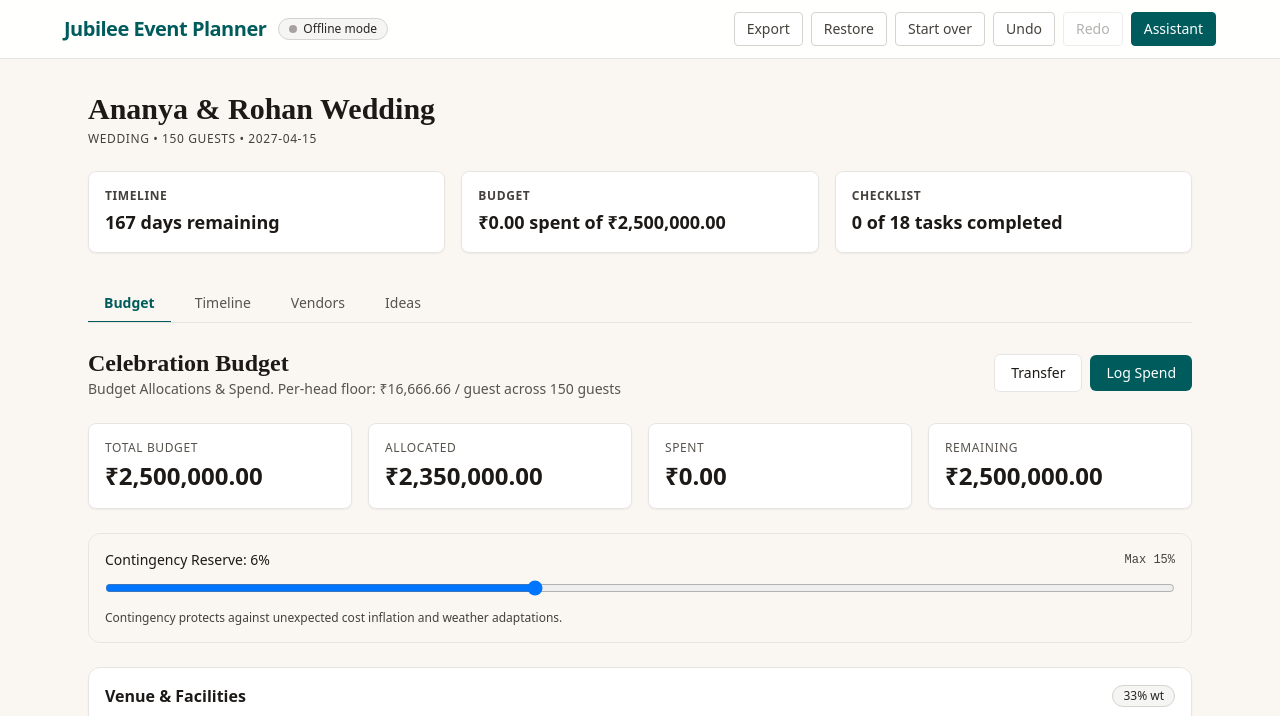
Test: App Shell › renders workspace with vitals and tab panels when a plan is active
Expected: the element named "Event vitals" is shown, [88,171,1192,253]
Expected: the element named "Planning sections" is shown, [88,285,1192,323]
Click the tab "Timeline".
click(223, 304)  # box [179,285,267,323]
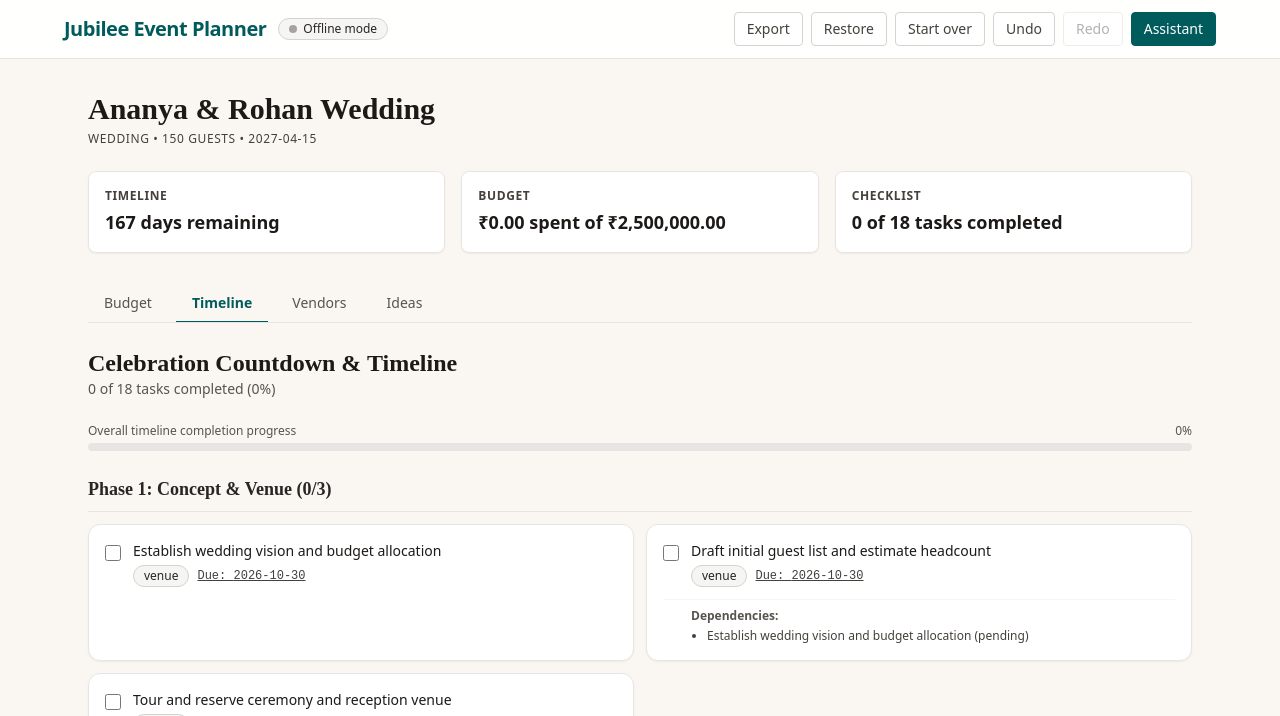
Result: the heading "Celebration Countdown & Timeline" is shown at [88,347,457,379]
Click the tab "Vendors".
click(319, 304)  # box [276,285,363,323]
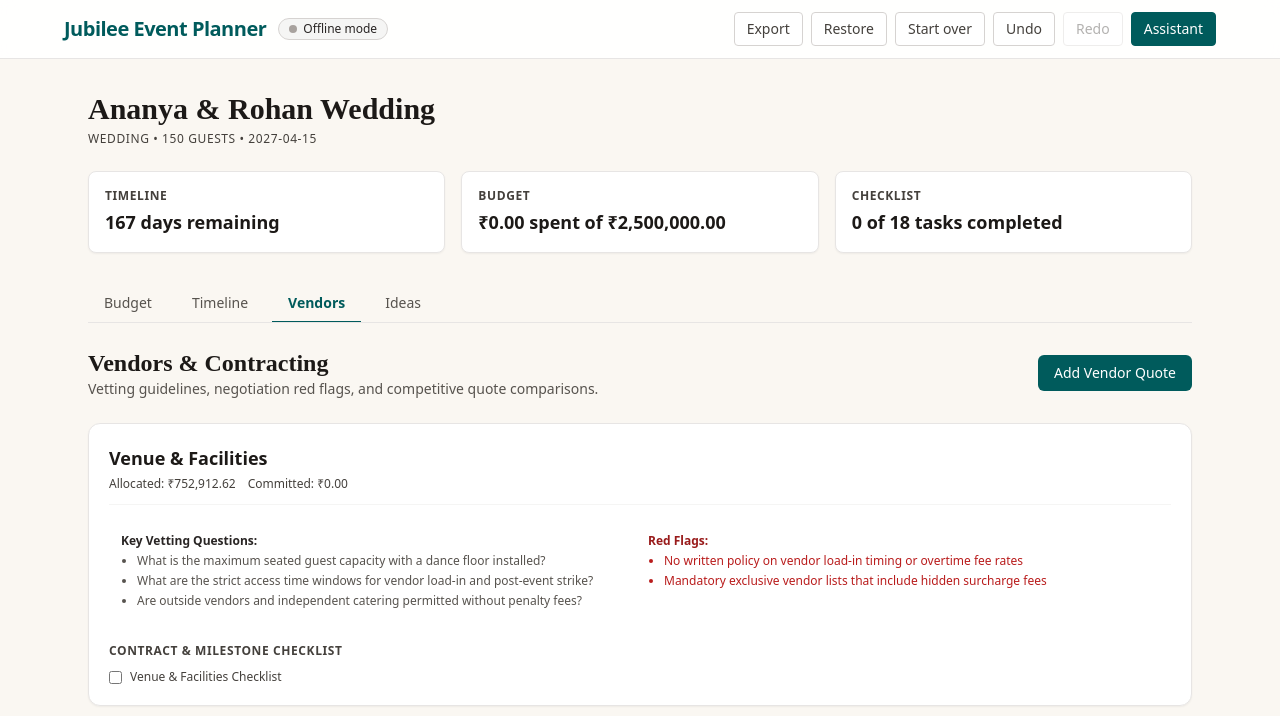
Result: the heading "Vendors & Contracting" is shown at [88,350,328,376]
Click the tab "Ideas".
click(403, 304)  # box [369,285,437,323]
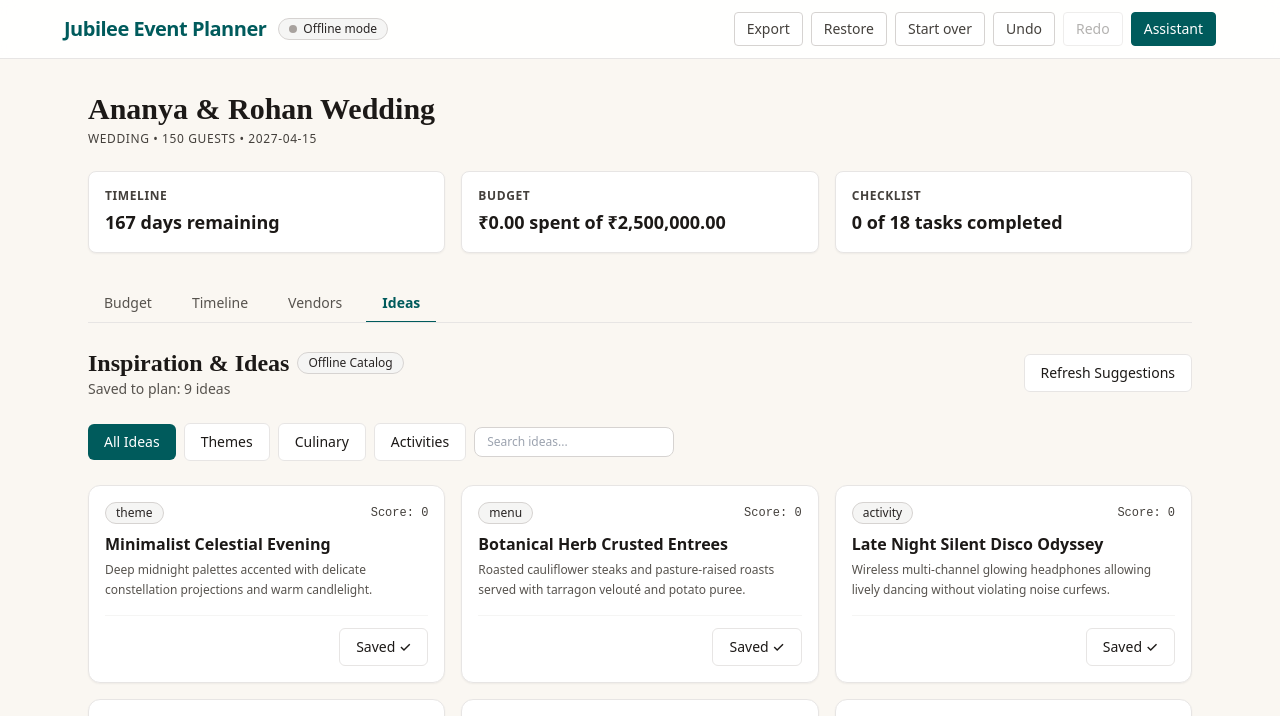
Result: the heading "Inspiration & Ideas" is shown at [88,347,289,379]
